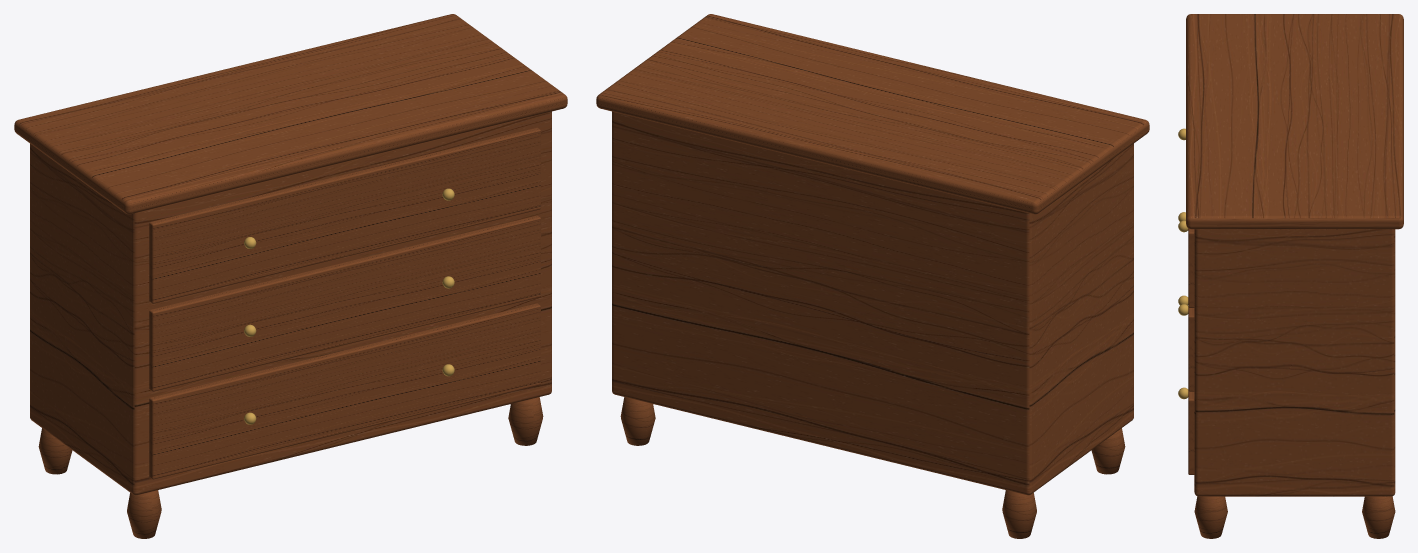
The model's file is comoda-tres-gavetas-cerejeira.glb.
3 views of the same model, side by side, from view 1: azimuth 30°, elevation 25°; view 2: azimuth 150°, elevation 25°; view 3: azimuth 270°, elevation 25° (orthographic). The views are drawn at different scales.
Visible parts, largest first — view 1: dresser; view 2: dresser; view 3: dresser.
Part boxes in pixels (x1,y1,x2,y2): dresser: [14, 14, 567, 538]; dresser: [596, 14, 1149, 538]; dresser: [1178, 14, 1403, 538].
Bounding box in the file's own units: 1.16 × 0.8725 × 0.539.
Materials: 2 (1 with a texture image).
